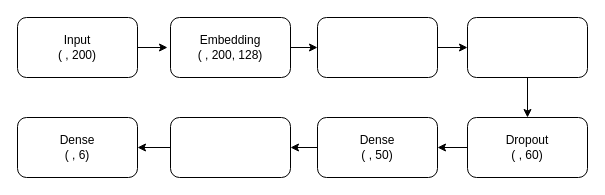
Image size: 605x195. Some labels were removed from this diagram. Here are the shapes that lost their labels. From the top down, the centre of each, then its label:
At pixel 377 47: "LSTM ( , 200, 60)".
At pixel 527 47: "Max Pooling ( , 60)".
At pixel 230 147: "Dropout ( , 50)".
